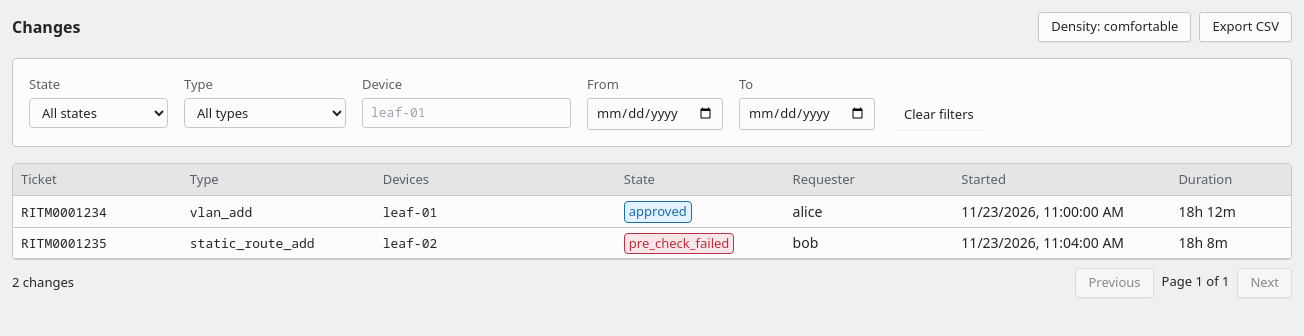
Test: ChangesList › updates the URL when the state filter changes
The image size is (1304, 336).
Check: the text "RITM0001234" is shown, box [21,202,107,220]
Select "approved" in the dropdown labelled "State": (98, 113) [29,98,168,128]
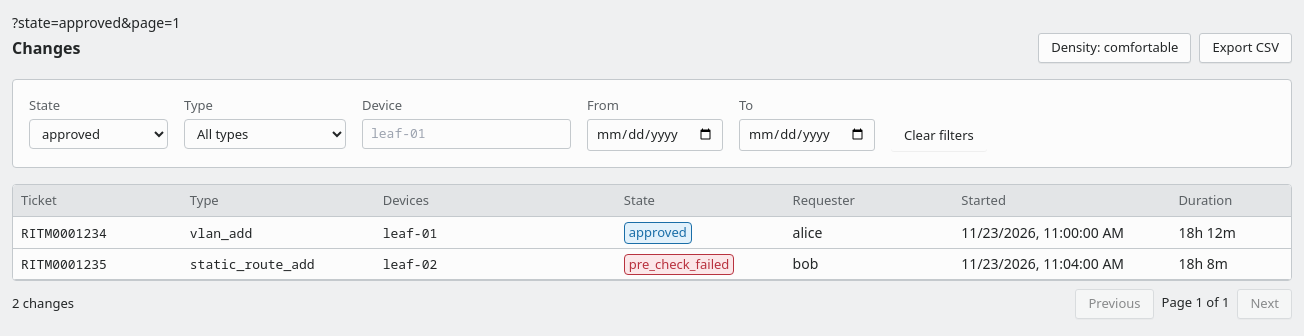
Check: the text with test id "location-search" shows "state=approved", box [12,13,180,32]
